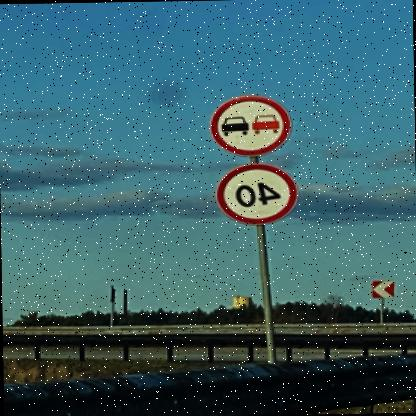speedlimit: (216, 160, 300, 225)
